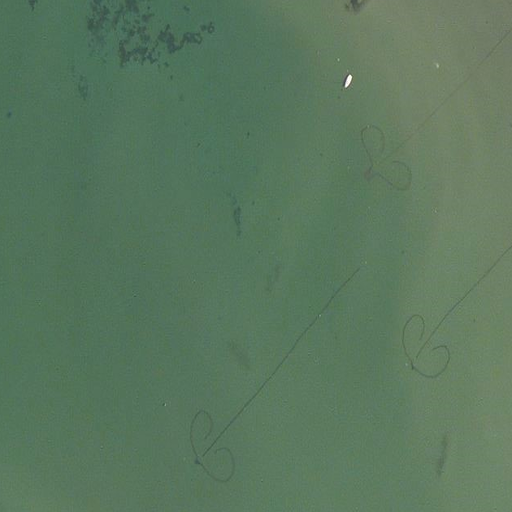ship: (343, 74, 353, 88)
